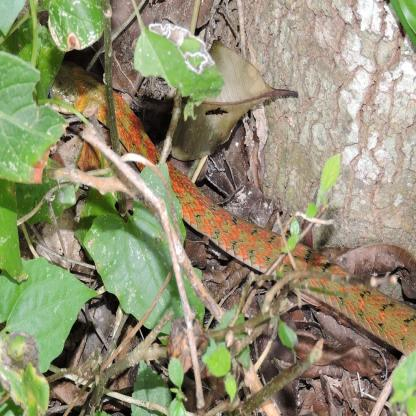Snake: (30, 57, 236, 255)
